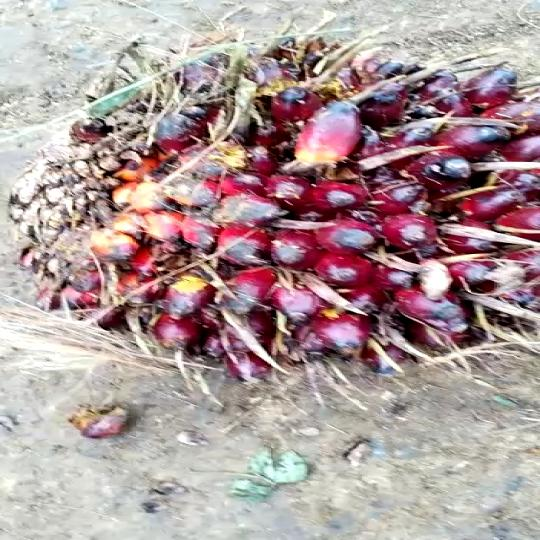kurang masak: (0, 6, 540, 388)
